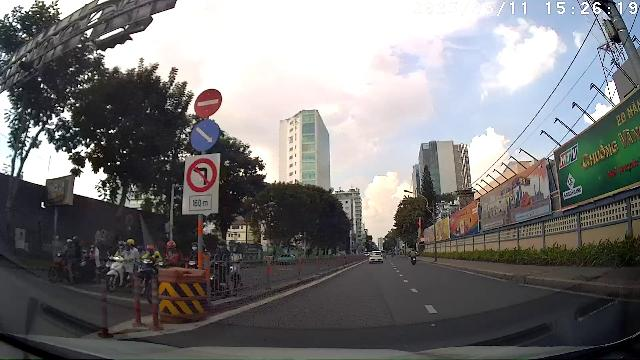102-cam-di-nguoc-chieu: (194, 88, 223, 118)
123a-cam-re-trai: (186, 157, 218, 193)
302a-huong-phai-di-vong-chuong-ngai-vat-1: (189, 120, 220, 151)
